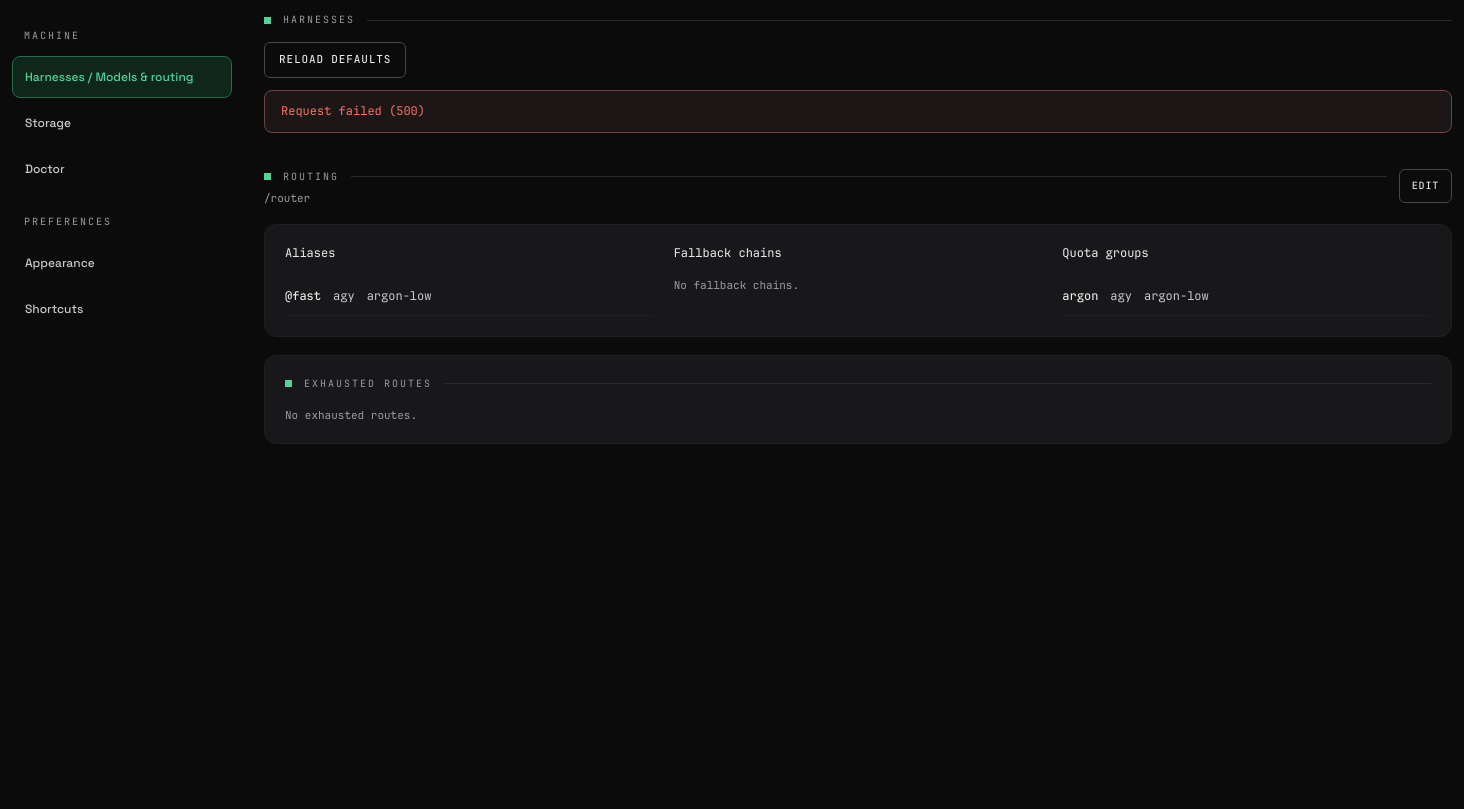
Test case: keeps routing usable when harness discovery fails
Click the button "Edit".
click(1425, 186)  # box [1399, 169, 1452, 203]
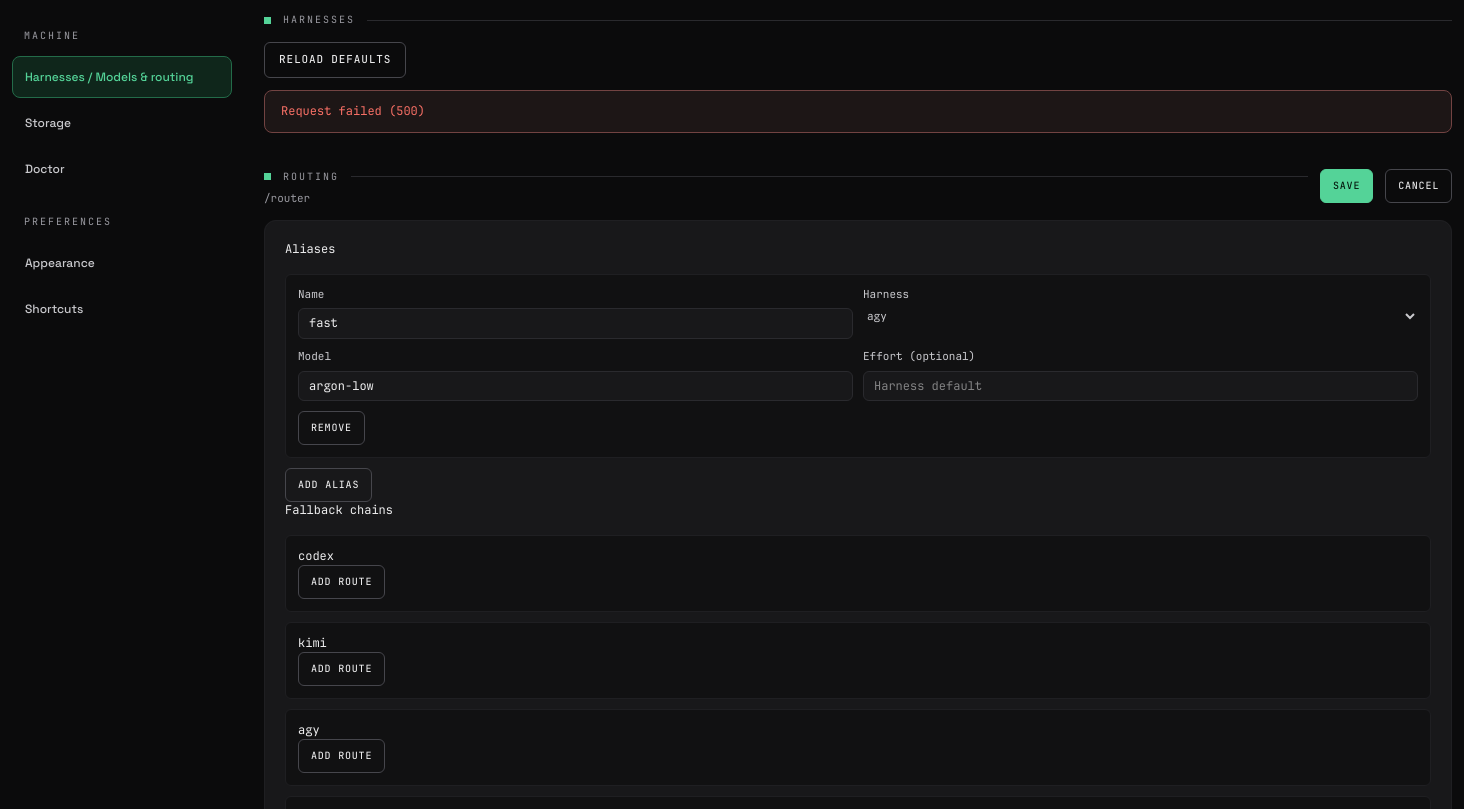
Expected: the message "Request failed (500)" is shown, [264, 90, 1452, 133]
Result: the field named "Alias 1 model" is enabled at [298, 371, 853, 401]
